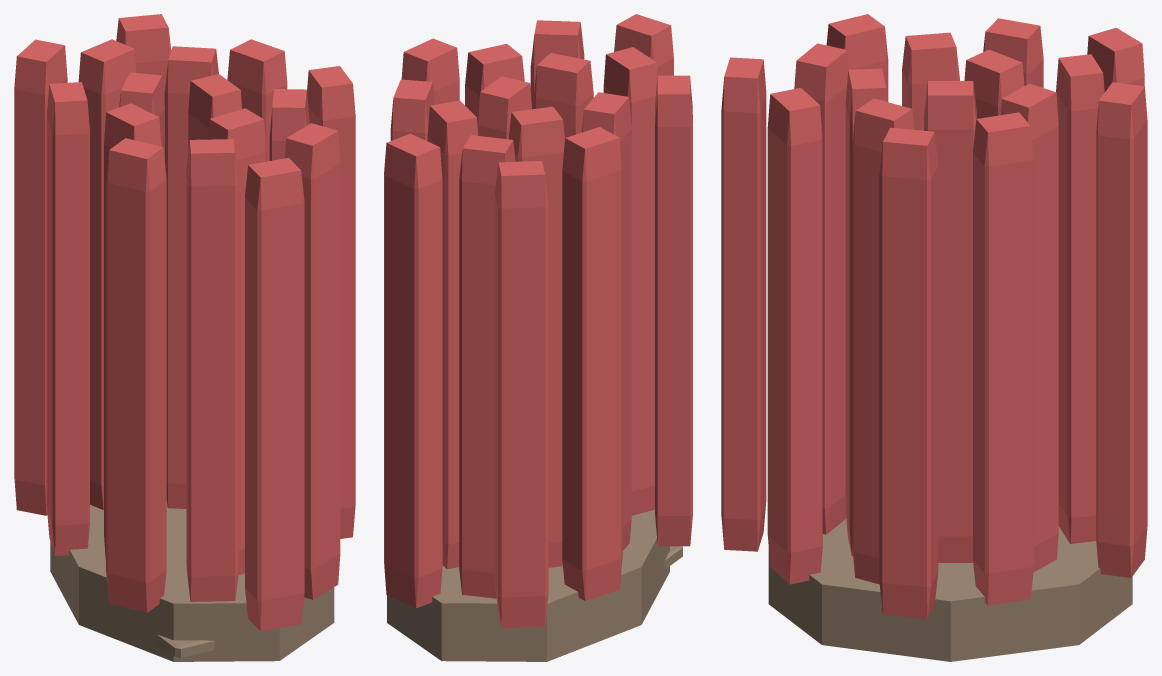
File: b08_redtwig_dogwood_winter.glb
The picture shows the model from 3 angles, left to right: view 1: azimuth 30°, elevation 25°; view 2: azimuth 150°, elevation 25°; view 3: azimuth 270°, elevation 25°; orthographic projection. The views are drawn at different scales.
Visible parts, largest first — view 1: b08_redtwig_dogwood_winter; view 2: b08_redtwig_dogwood_winter; view 3: b08_redtwig_dogwood_winter.
Boxes of the visible parts, <box> form: b08_redtwig_dogwood_winter: <box>14,14,355,661</box>; b08_redtwig_dogwood_winter: <box>384,14,692,661</box>; b08_redtwig_dogwood_winter: <box>721,14,1147,661</box>.
Size of the model in its own units: 0.881 by 1.62 by 1.18.
